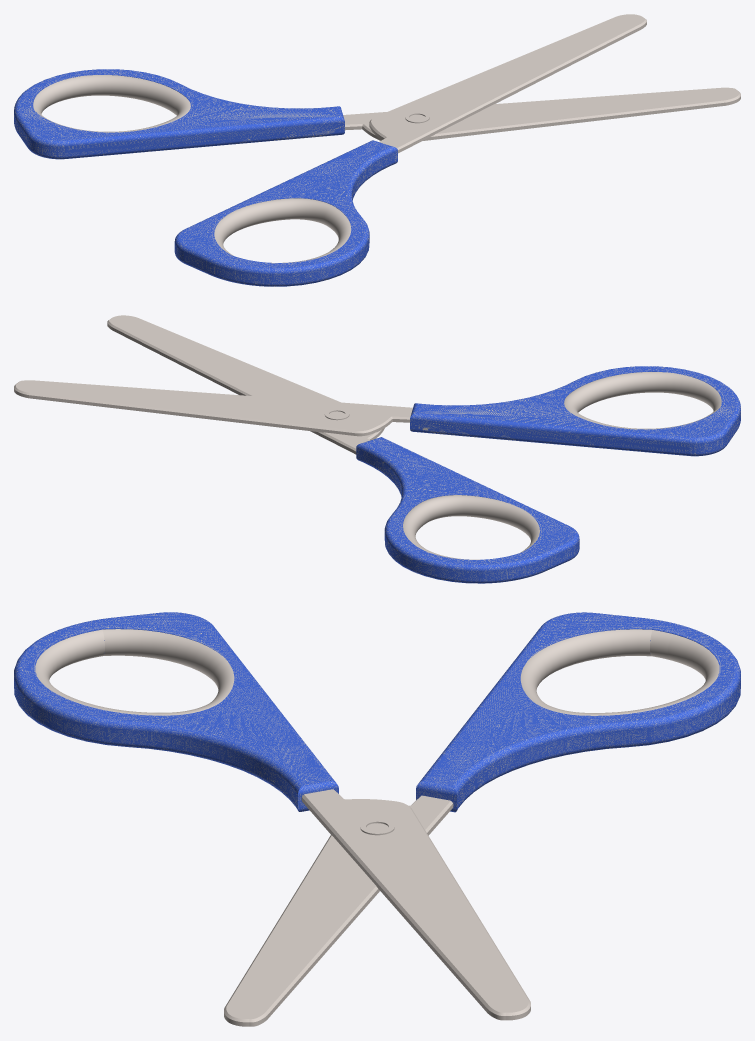
The model's file is scissors_3.dae.
3 views of the same model, one above another, from view 1: azimuth 30°, elevation 25°; view 2: azimuth 150°, elevation 25°; view 3: azimuth 270°, elevation 25° (orthographic). The views are drawn at different scales.
Visible parts, largest first — view 1: helft_1, helft, group_1, group_3, group_2, group_0; view 2: helft, helft_1, group_1, group_3, group_0, group_2; view 3: helft_1, helft, group_1, group_3, group_0, group_2.
Part boxes in pixels (<box>): helft_1: <box>14,69,344,159</box>; helft: <box>174,140,397,286</box>; group_1: <box>369,14,646,153</box>; group_3: <box>343,87,740,140</box>; group_2: <box>30,75,190,132</box>; group_0: <box>212,198,351,263</box>; helft: <box>410,366,740,456</box>; helft_1: <box>356,437,579,583</box>; group_1: <box>14,380,412,436</box>; group_3: <box>107,315,384,454</box>; group_0: <box>564,372,724,429</box>; group_2: <box>403,495,541,560</box>; helft_1: <box>416,612,740,812</box>; helft: <box>14,612,338,811</box>; group_1: <box>301,789,530,1020</box>; group_3: <box>224,795,453,1026</box>; group_0: <box>34,627,234,715</box>; group_2: <box>520,627,720,715</box>.
Bounding box in the file's own units: 6.45 × 4.98 × 0.2049.
